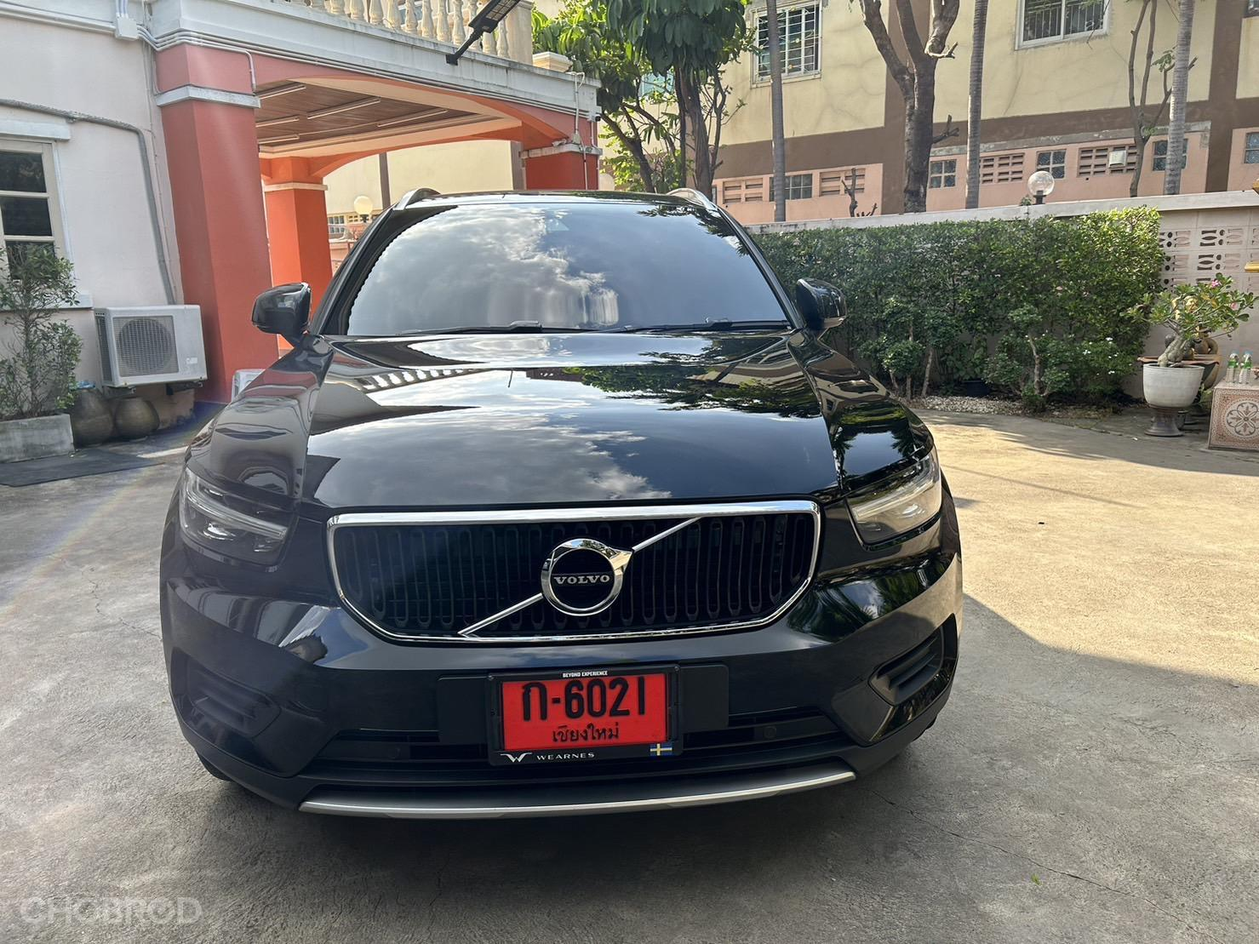license-plate: (491, 665, 684, 768)
